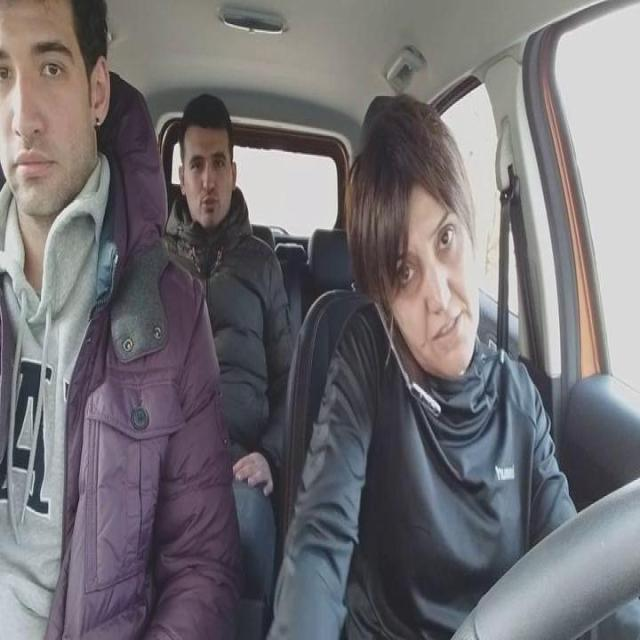phone: (368, 289, 447, 420)
